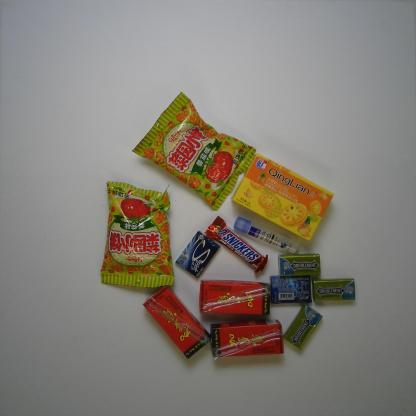Chocolate: (204, 216, 268, 274)
Dessert: (231, 153, 335, 241)
Drink: (143, 285, 211, 359), (210, 319, 284, 358), (198, 279, 271, 316)
Gum: (176, 231, 221, 277), (283, 304, 323, 349), (270, 274, 312, 304), (278, 254, 322, 277), (313, 278, 355, 302)
Puffed Food: (132, 92, 256, 211), (100, 181, 175, 288)
Stationery: (233, 217, 298, 254)
